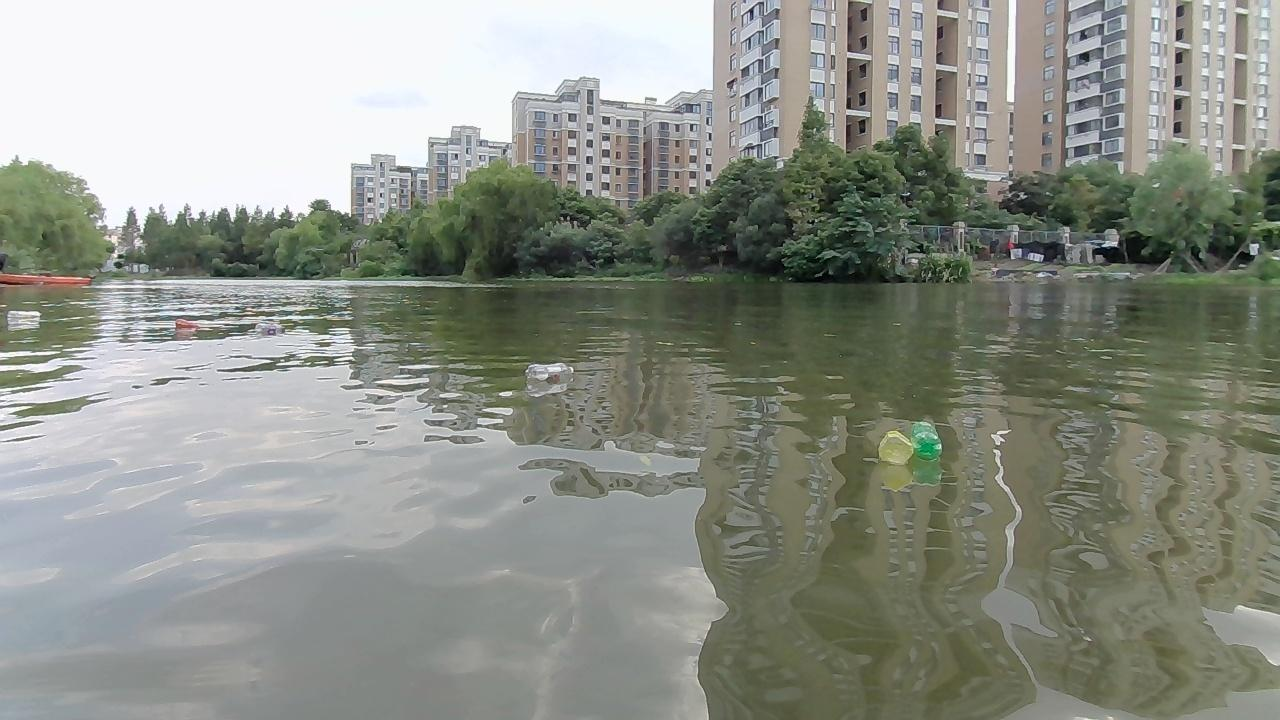bottle: (872, 423, 919, 470), (909, 416, 948, 465), (525, 359, 574, 386), (4, 305, 47, 331), (168, 315, 201, 334), (251, 321, 286, 337)
